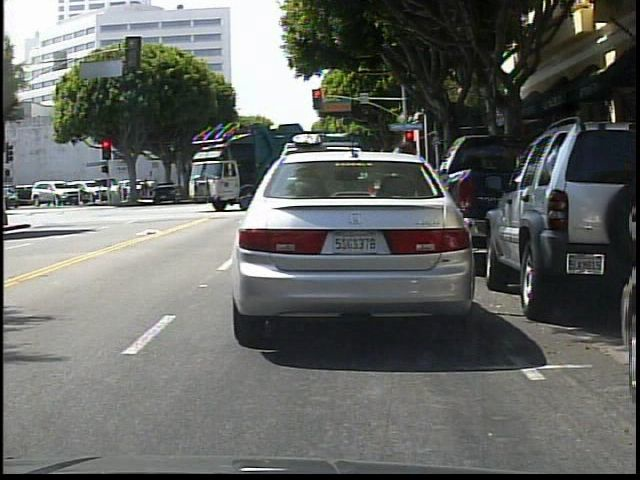person: (383, 138, 426, 278)
